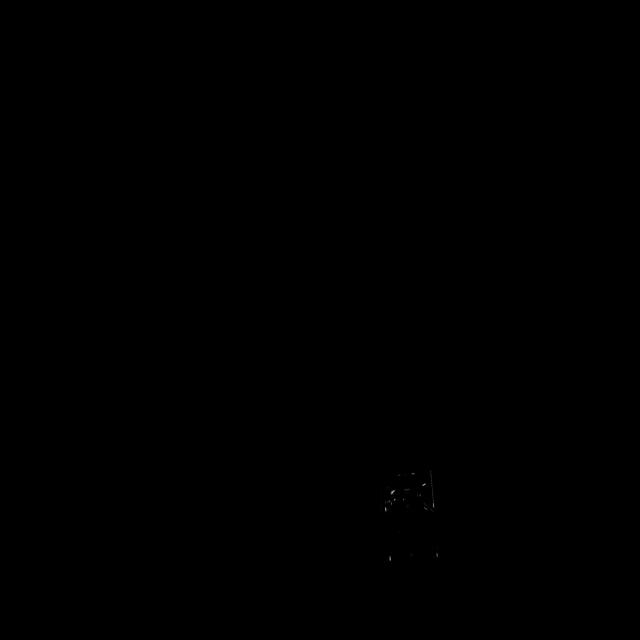satellite: (364, 455, 462, 578)
